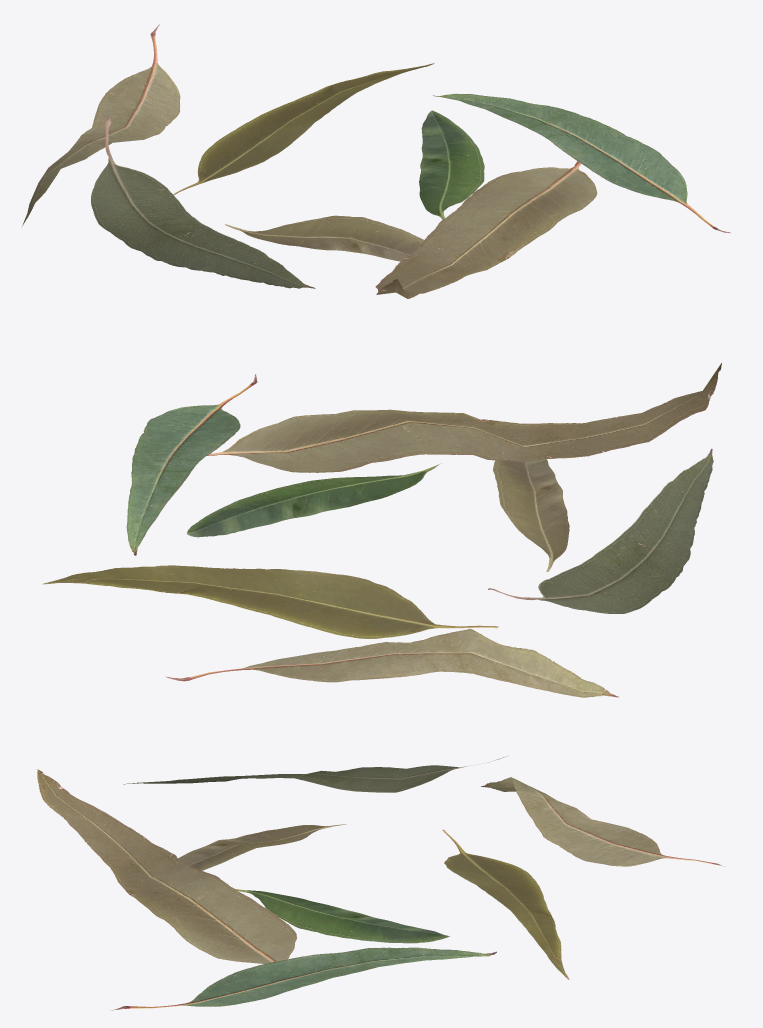
The model's file is FallenLeafClusterA.fbx.
3 views of the same model, one above another, from view 1: azimuth 30°, elevation 25°; view 2: azimuth 150°, elevation 25°; view 3: azimuth 270°, elevation 25° (orthographic). The views are drawn at different scales.
Visible parts, largest first — view 1: FallenLeafClusterA_LOD0; view 2: FallenLeafClusterA_LOD0; view 3: FallenLeafClusterA_LOD0.
Part boxes in pixels (box(x1,y1,x2,y2)): FallenLeafClusterA_LOD0: box(22, 24, 730, 298); FallenLeafClusterA_LOD0: box(42, 363, 721, 697); FallenLeafClusterA_LOD0: box(37, 756, 725, 1010).
Size of what is drawn, in the model's own units: 20.79 by 25.39 by 4.02.
